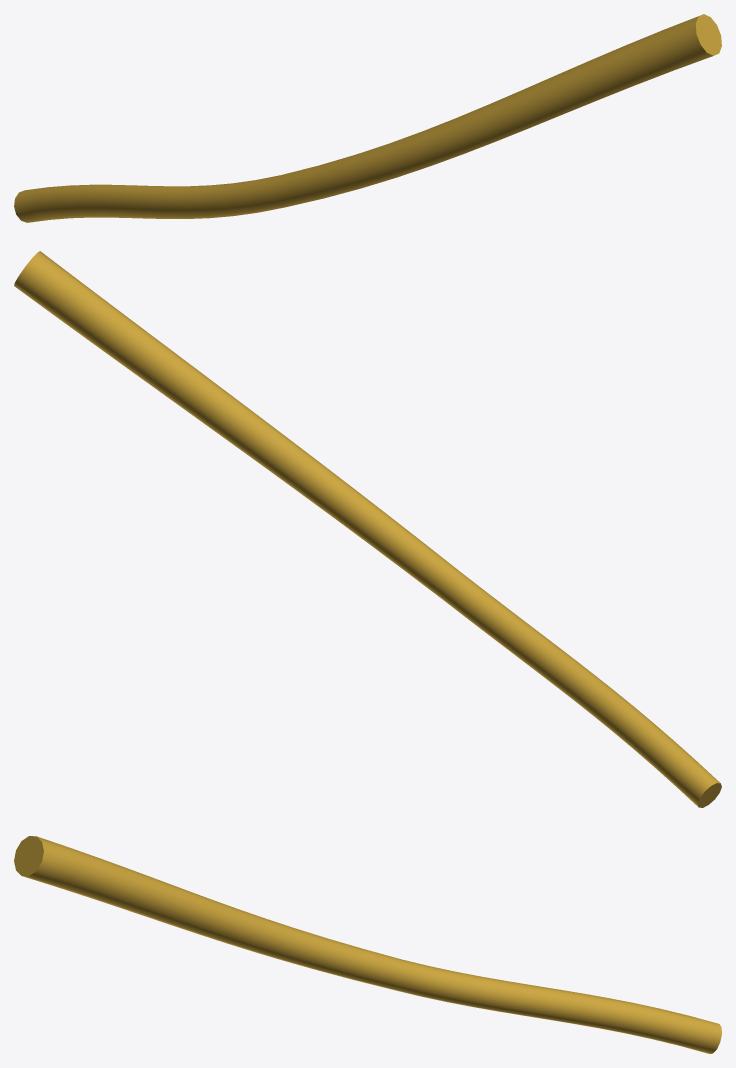
The picture shows the model from 3 angles, top to bottom: view 1: azimuth 30°, elevation 25°; view 2: azimuth 210°, elevation 25°; view 3: azimuth 270°, elevation 25°; orthographic projection. The views are drawn at different scales.
Parts seen in each view (by area): view 1: 右侧下颌神经前干; view 2: 右侧下颌神经前干; view 3: 右侧下颌神经前干.
Boxes of the visible parts, box(x1,y1,x2,y2) form: 右侧下颌神经前干: box(14, 14, 721, 222); 右侧下颌神经前干: box(14, 251, 721, 807); 右侧下颌神经前干: box(14, 836, 721, 1053).
Size of the model in its own units: 0.0112 by 0.0113 by 0.0196.
